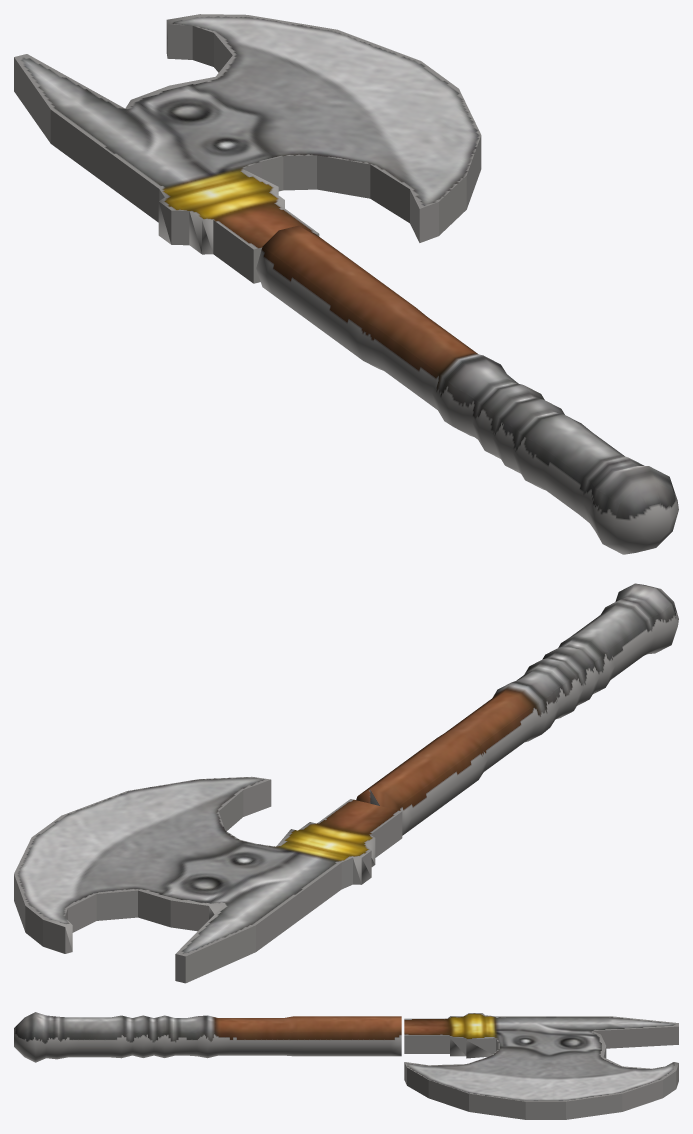
The model's file is item_mm9_10040.glb.
The picture shows the model from 3 angles, top to bottom: view 1: azimuth 30°, elevation 25°; view 2: azimuth 150°, elevation 25°; view 3: azimuth 270°, elevation 25°; orthographic projection. The views are drawn at different scales.
Parts seen in each view (by area): view 1: d10040; view 2: d10040; view 3: d10040.
Boxes of the visible parts, box(x1,y1,x2,y2) form: d10040: box(14, 14, 678, 554); d10040: box(14, 583, 678, 983); d10040: box(14, 1012, 678, 1119).
Bounding box in the file's own units: 35.53 × 8.23 × 112.
Materials: 1 (1 with a texture image).
